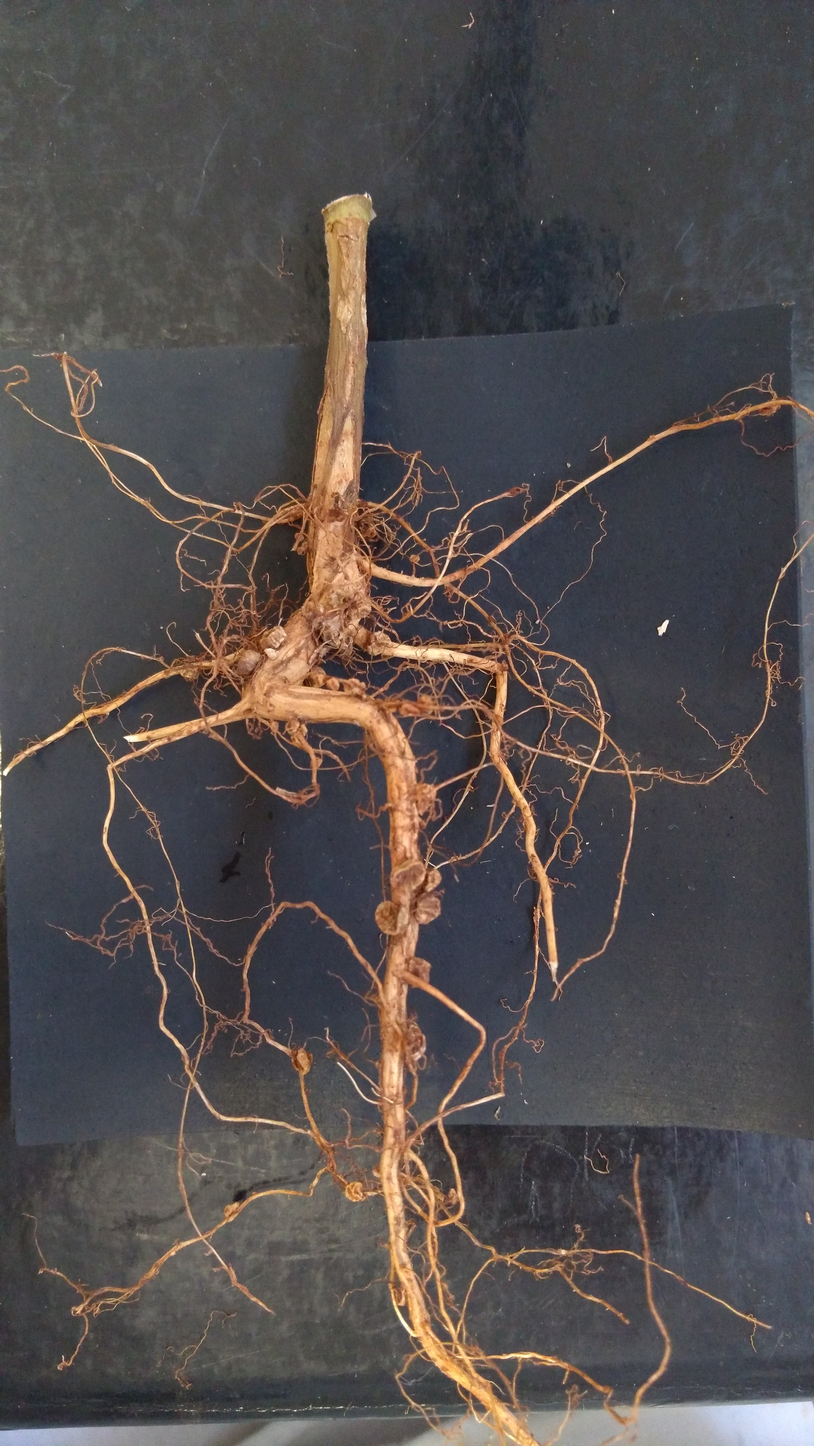nodule: (372, 897, 411, 939), (403, 1017, 433, 1067), (404, 950, 437, 994), (413, 889, 446, 928), (364, 625, 394, 665), (389, 858, 425, 889), (413, 779, 440, 815), (286, 1045, 314, 1078), (258, 624, 291, 652), (341, 1179, 371, 1208), (318, 617, 343, 649), (236, 649, 262, 677), (420, 864, 445, 893), (414, 691, 439, 720), (302, 664, 327, 691), (345, 603, 375, 622), (397, 701, 423, 720), (177, 666, 200, 685), (321, 675, 341, 694), (223, 1199, 243, 1217), (429, 1189, 448, 1206), (285, 717, 300, 738), (448, 1187, 461, 1207), (297, 721, 312, 737), (296, 540, 310, 557), (310, 755, 324, 770), (269, 719, 280, 737), (365, 526, 379, 539), (408, 554, 424, 564), (293, 532, 305, 541)
